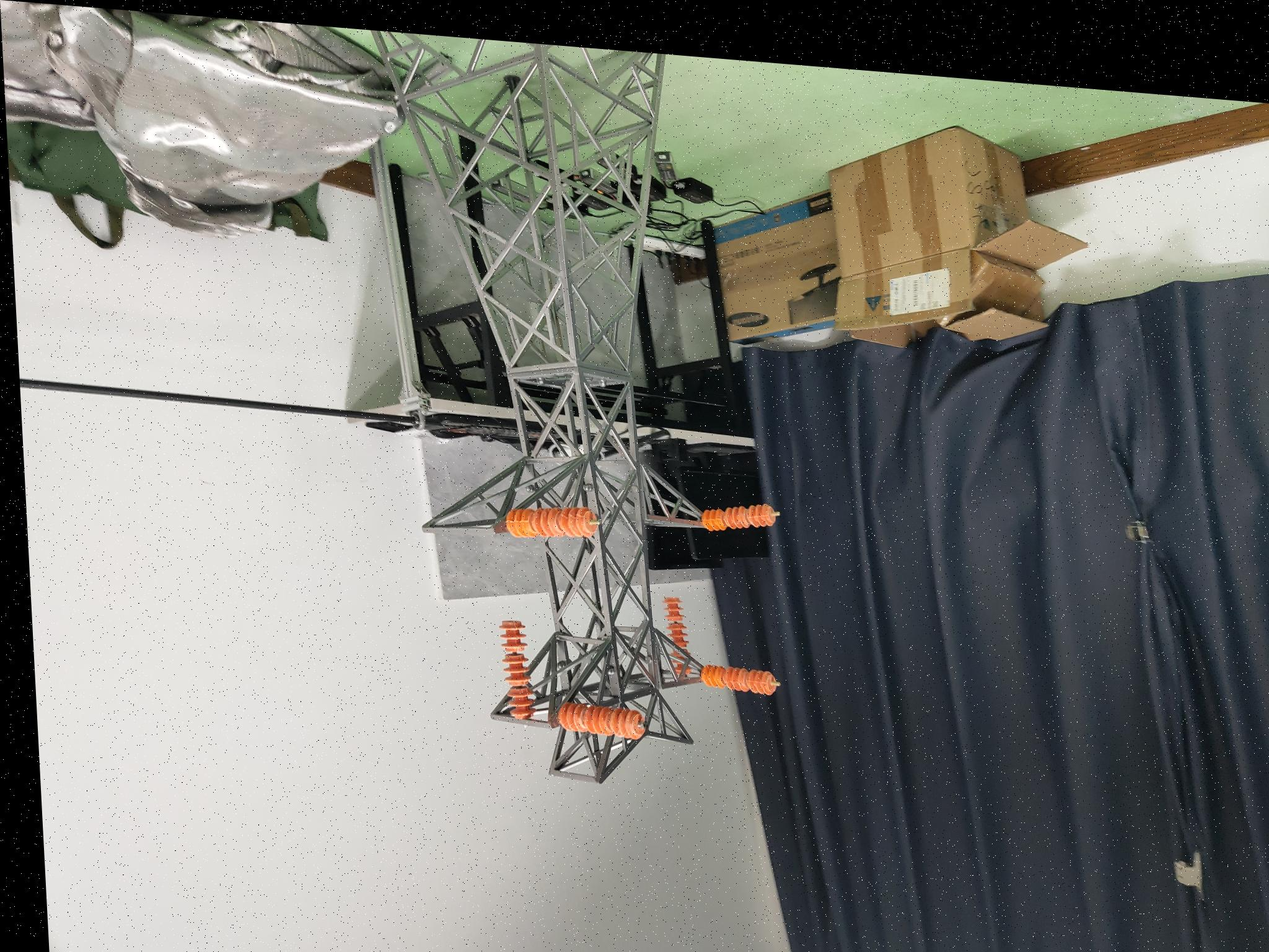tower: (401, 33, 708, 794)
